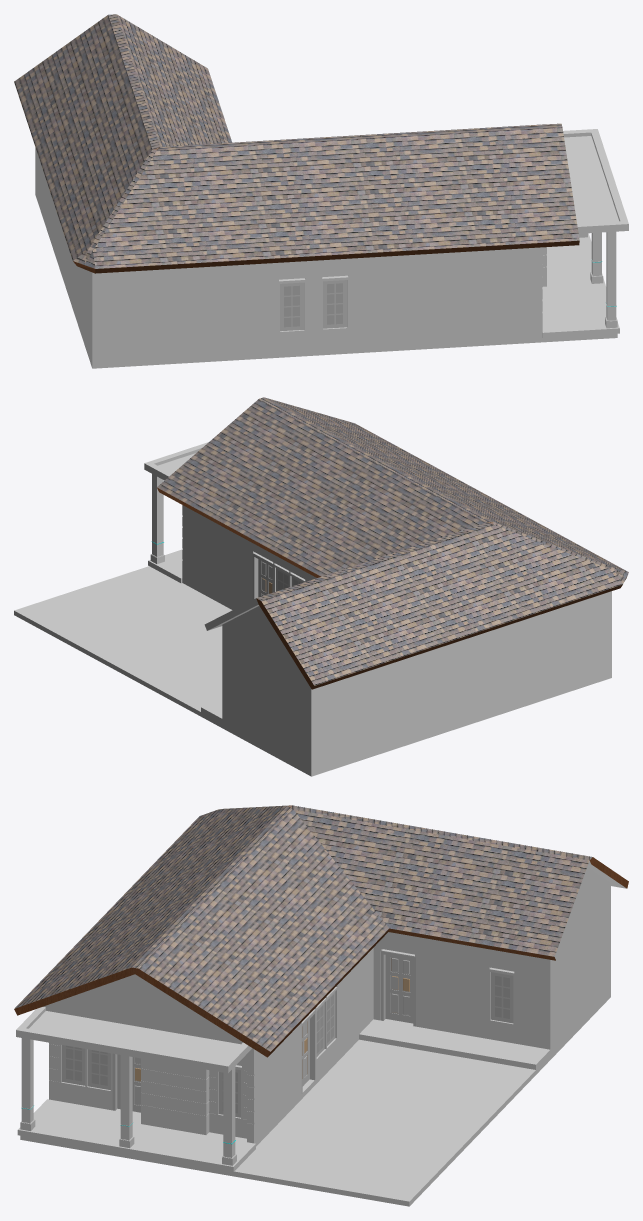
The picture shows the model from 3 angles, top to bottom: view 1: azimuth 30°, elevation 25°; view 2: azimuth 150°, elevation 25°; view 3: azimuth 270°, elevation 25°; orthographic projection. The views are drawn at different scales.
Parts seen in each view (by area): view 1: Mesh10_Roofing_Shingles_Multi_0, Mesh10_FrontColor_0, Mesh10_Wood_Veneer_01_0, Mesh8_Wood_Bamboo_Medium1_0, Mesh9_Wood_Bamboo_Medium1_0, Mesh9_Translucent_Glass_Gray_0, Mesh8_Translucent_Glass_Gray_0; view 2: Mesh10_Roofing_Shingles_Multi_0, Mesh10_FrontColor_0, Mesh10_Wood_Veneer_01_0; view 3: Mesh10_FrontColor_0, Mesh10_Roofing_Shingles_Multi_0, Mesh10_Wood_Veneer_01_0, Mesh10_Wood_Bamboo_Medium1_0, Mesh10_Translucent_Glass_Gray_0, Mesh1_Wood_Bamboo_Medium_0, Mesh7_Wood_Bamboo_Medium1_0, Mesh2_Wood_Bamboo_Medium_0, Mesh5_Wood_Bamboo_Medium_0, Mesh4_Wood_Bamboo_Medium_0.
Boxes of the visible parts, x1=… form: Mesh10_Roofing_Shingles_Multi_0: x1=14, y1=14, x2=579, y2=268; Mesh10_FrontColor_0: x1=35, y1=129, x2=628, y2=368; Mesh10_Wood_Veneer_01_0: x1=73, y1=240, x2=579, y2=273; Mesh8_Wood_Bamboo_Medium1_0: x1=323, y1=280, x2=347, y2=328; Mesh9_Wood_Bamboo_Medium1_0: x1=280, y1=282, x2=303, y2=331; Mesh9_Translucent_Glass_Gray_0: x1=284, y1=285, x2=299, y2=327; Mesh8_Translucent_Glass_Gray_0: x1=327, y1=283, x2=342, y2=324; Mesh10_Roofing_Shingles_Multi_0: x1=157, y1=397, x2=628, y2=685; Mesh10_FrontColor_0: x1=14, y1=409, x2=611, y2=776; Mesh10_Wood_Veneer_01_0: x1=157, y1=487, x2=627, y2=689; Mesh10_FrontColor_0: x1=16, y1=861, x2=626, y2=1206; Mesh10_Roofing_Shingles_Multi_0: x1=14, y1=805, x2=592, y2=1051; Mesh10_Wood_Veneer_01_0: x1=14, y1=857, x2=628, y2=1057; Mesh10_Wood_Bamboo_Medium1_0: x1=62, y1=992, x2=335, y2=1117; Mesh10_Translucent_Glass_Gray_0: x1=66, y1=994, x2=333, y2=1113; Mesh1_Wood_Bamboo_Medium_0: x1=385, y1=955, x2=413, y2=1023; Mesh7_Wood_Bamboo_Medium1_0: x1=491, y1=972, x2=513, y2=1023; Mesh2_Wood_Bamboo_Medium_0: x1=381, y1=951, x2=415, y2=1026; Mesh5_Wood_Bamboo_Medium_0: x1=117, y1=1054, x2=140, y2=1112; Mesh4_Wood_Bamboo_Medium_0: x1=301, y1=1010, x2=315, y2=1093.
Size of the model in its own units: 17.6 by 4.98 by 16.1.
